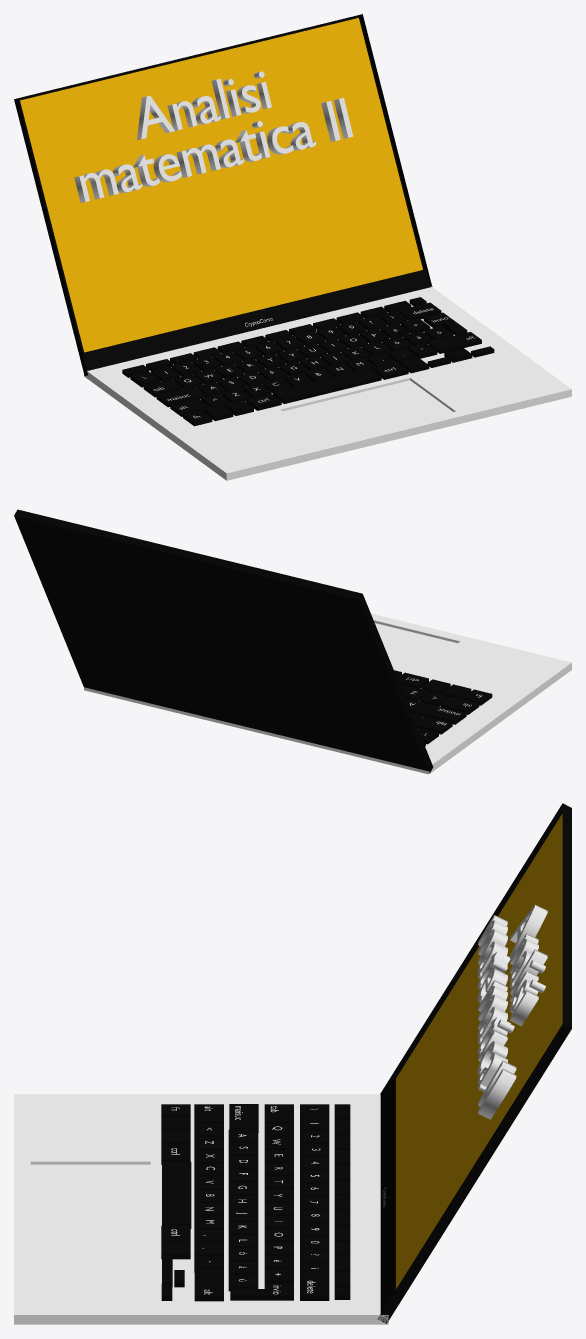
File: analisi2.glb
3 views of the same model, one above another, from view 1: azimuth 30°, elevation 25°; view 2: azimuth 150°, elevation 25°; view 3: azimuth 270°, elevation 25° (orthographic). The views are drawn at different scales.
Visible parts, largest first — view 1: Cube.073, Cube, Cube.074, Text.001, Cube.001, Text, Cube.072, Cube.123; view 2: Cube.001, Cube, Cube.065, Cube.064, Cube.066, Cube.071; view 3: Cube, Cube.073, Cube.001, Text.001, Cube.074, Text, Cube.072, Cube.123, Cube.065, Cube.027.
Part boxes in pixels (x1,y1,x2,y2): Cube.073: [20, 18, 422, 352]; Cube: [84, 286, 571, 480]; Cube.074: [82, 269, 431, 370]; Text.001: [74, 97, 353, 202]; Cube.001: [14, 14, 432, 375]; Text: [137, 71, 271, 140]; Cube.072: [272, 368, 381, 403]; Cube.123: [428, 332, 481, 353]; Cube.001: [14, 509, 433, 772]; Cube: [84, 613, 571, 774]; Cube.065: [417, 703, 466, 724]; Cube.064: [440, 696, 479, 714]; Cube.066: [415, 716, 452, 734]; Cube.071: [397, 672, 428, 688]; Cube: [14, 1094, 388, 1324]; Cube.073: [396, 813, 562, 1288]; Cube.001: [377, 803, 571, 1323]; Text.001: [477, 915, 516, 1119]; Cube.074: [380, 1077, 396, 1313]; Text: [509, 904, 547, 1025]; Cube.072: [162, 1161, 191, 1228]; Cube.123: [194, 1269, 223, 1301]; Cube.065: [229, 1104, 258, 1132]; Cube.027: [300, 1276, 329, 1300].
Bounding box in the file's own units: 6.79 × 4.31 × 7.25.
